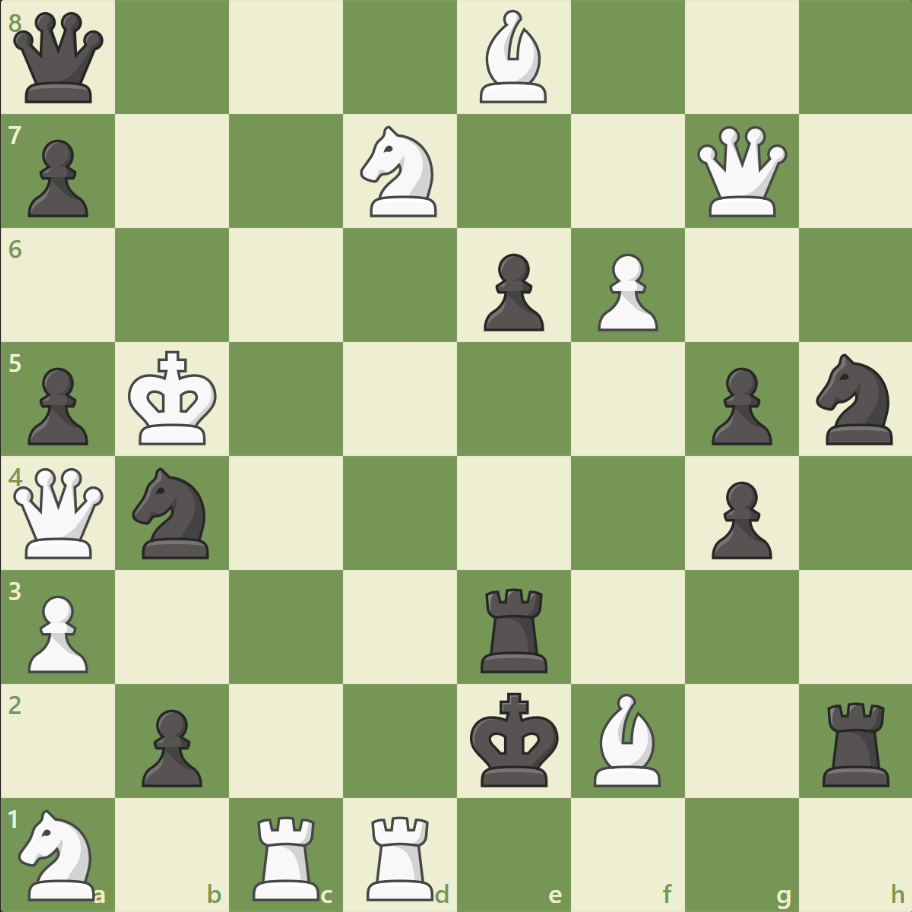B: (471, 6, 555, 109), (585, 687, 669, 790)
K: (124, 344, 224, 452)
N: (351, 121, 449, 223), (11, 802, 108, 904)
P: (20, 586, 95, 677), (588, 246, 662, 337)
Q: (691, 122, 790, 222), (10, 463, 109, 562)
R: (246, 806, 329, 904), (360, 806, 442, 904)
k: (465, 685, 565, 793)
n: (124, 461, 222, 564), (806, 348, 903, 450)
p: (20, 132, 95, 223), (474, 246, 549, 337), (20, 359, 95, 450), (701, 359, 776, 450), (701, 473, 776, 564), (133, 700, 208, 791)
q: (10, 9, 109, 108)
r: (473, 579, 556, 676), (814, 693, 897, 790)
